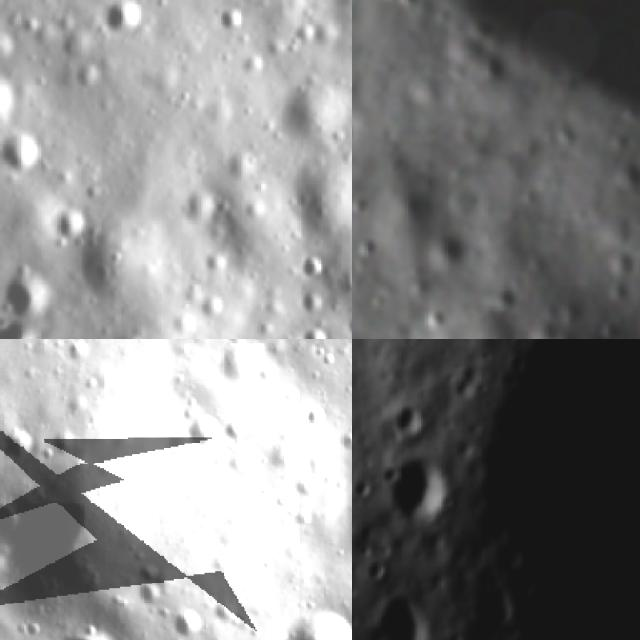crater: (0, 481, 137, 619), (383, 450, 451, 526), (364, 591, 446, 640), (263, 605, 352, 640), (0, 417, 43, 469), (99, 0, 146, 46), (384, 398, 428, 446), (210, 0, 255, 43), (161, 605, 210, 640), (187, 415, 227, 452), (289, 250, 331, 284), (53, 625, 126, 640), (257, 326, 328, 339), (136, 583, 167, 610), (59, 339, 92, 364), (136, 558, 164, 586), (225, 414, 250, 442), (578, 324, 621, 339)
